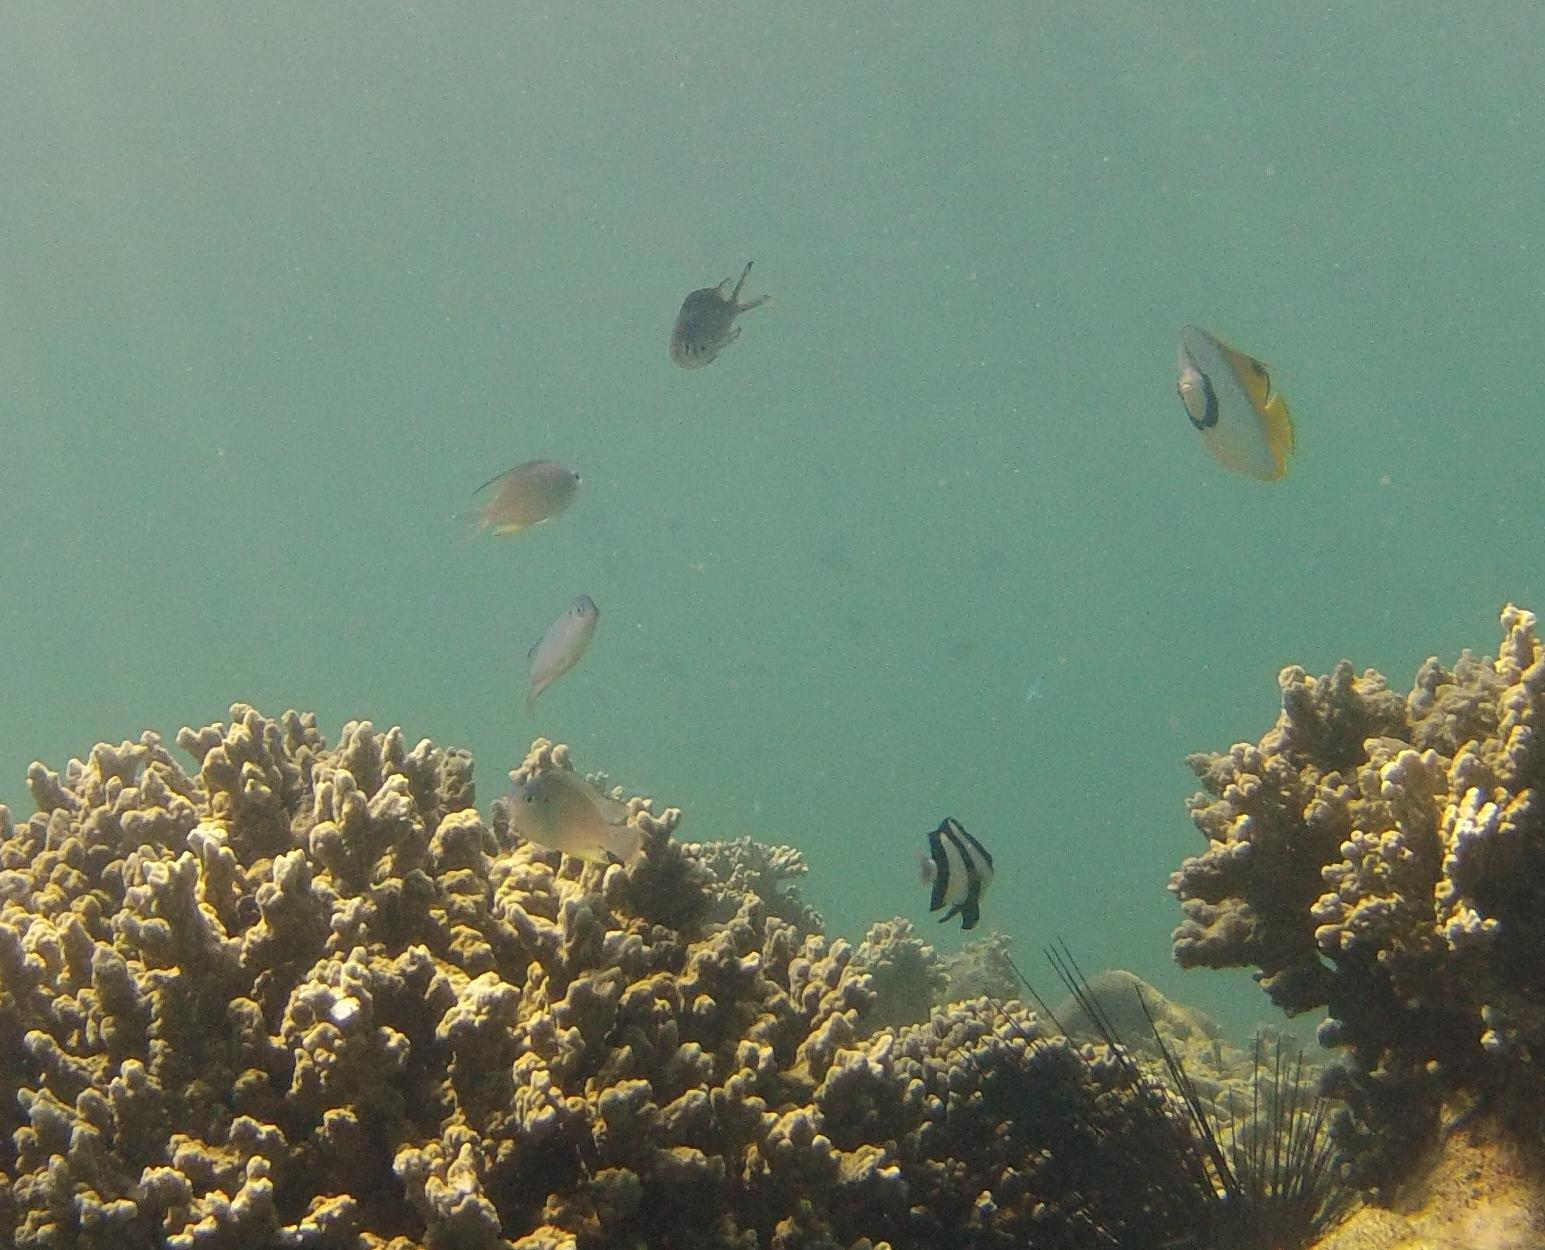Dascyllus aruanus: (875, 791, 1055, 931)
